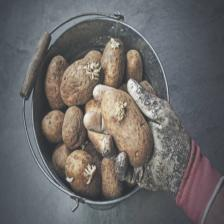Diseased-fungal potato: (46, 52, 72, 114), (61, 102, 88, 149), (99, 154, 126, 196), (38, 108, 68, 142)
Sprouted potato: (101, 88, 157, 168), (62, 45, 108, 107), (64, 145, 103, 200), (102, 33, 132, 93)
